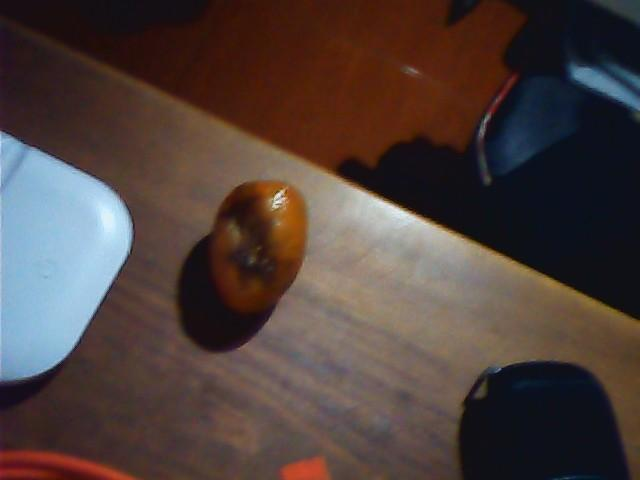defectuoso: (211, 178, 306, 323)
